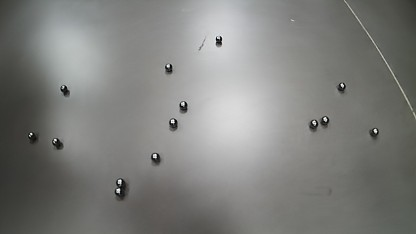ironball: (116, 178, 126, 188), (309, 119, 318, 129), (151, 152, 160, 162), (114, 187, 124, 196), (320, 116, 329, 125), (369, 127, 378, 136), (169, 118, 177, 128), (164, 63, 172, 72), (179, 101, 187, 110), (337, 82, 345, 91), (28, 132, 36, 141), (52, 138, 60, 146), (215, 35, 222, 43), (60, 85, 67, 92)
